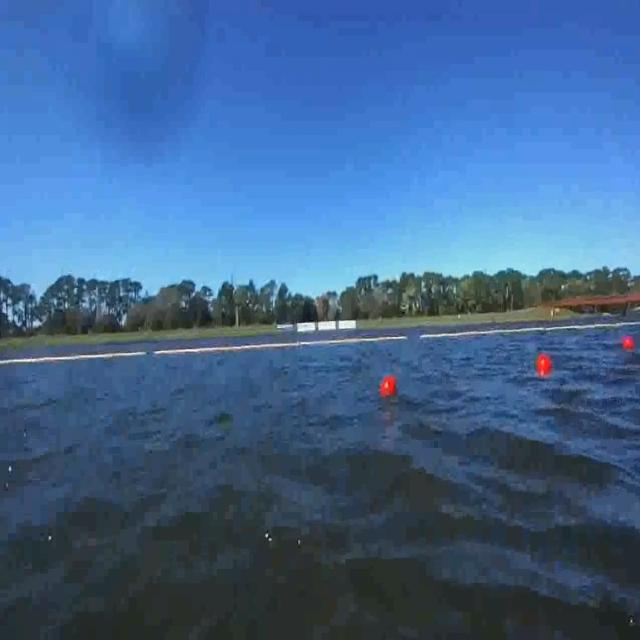red-buoy: (536, 352, 552, 376), (382, 377, 398, 398), (622, 337, 636, 353)
